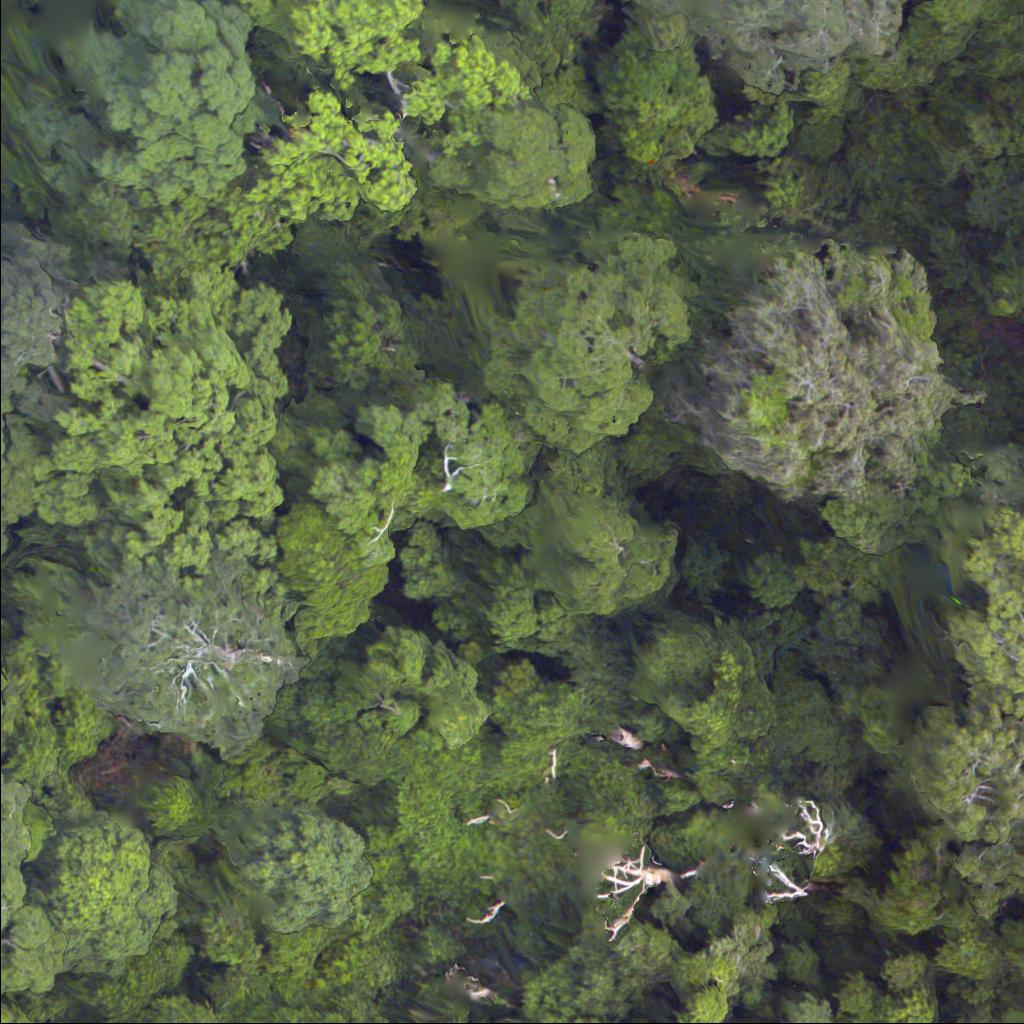crown: (34, 284, 312, 570), (0, 0, 275, 244), (457, 220, 706, 455), (328, 383, 533, 556), (887, 714, 1023, 917), (36, 816, 175, 985), (520, 915, 733, 1023), (673, 0, 914, 93), (0, 401, 50, 569)
